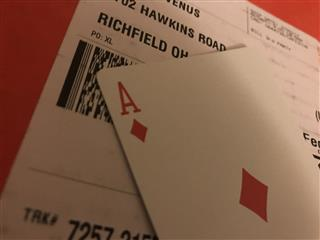AceOfDiamonds: (95, 45, 320, 240)
